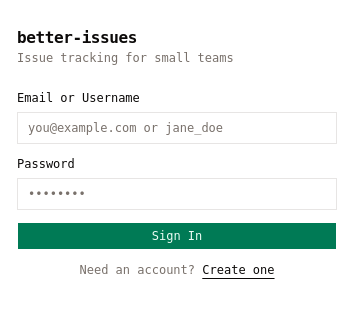
Test: sign-in page › surfaces thrown sign-in failures and resets the button state
Type "issue-admin" into the field labelled "Email or Username" at (177, 128), box [17,112,337,144]
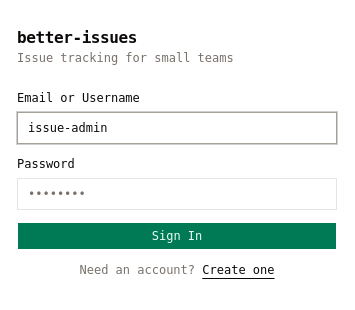
Type "SuperSecret123!" into the password field labelled "Password" at (177, 194), box [17,178,337,210]
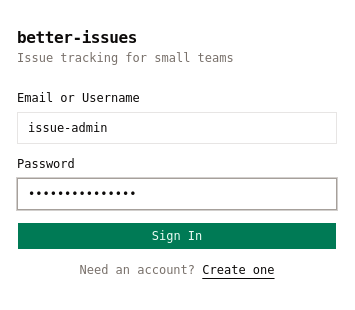
Click the button "Sign In" at (177, 236), box [17,222,337,250]
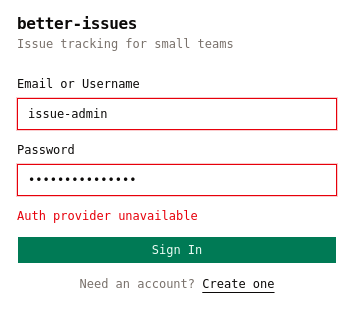
expect the button "Sign In" is enabled: met, box [17,236,337,264]
expect the text "Auth provider unavailable" is shown: met, box [17,209,198,223]
